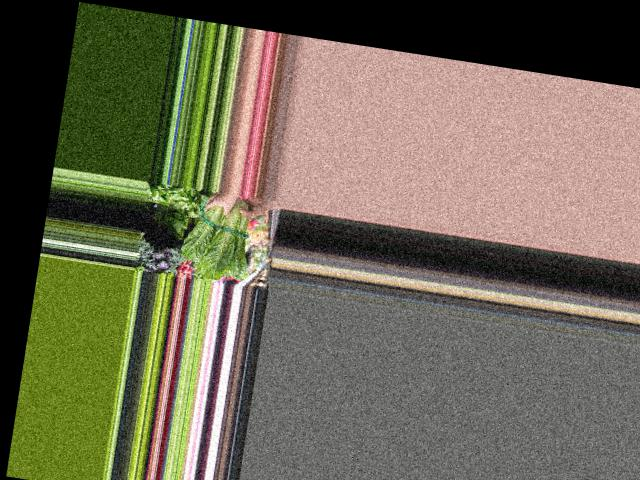lettuce: (177, 186, 256, 280)
